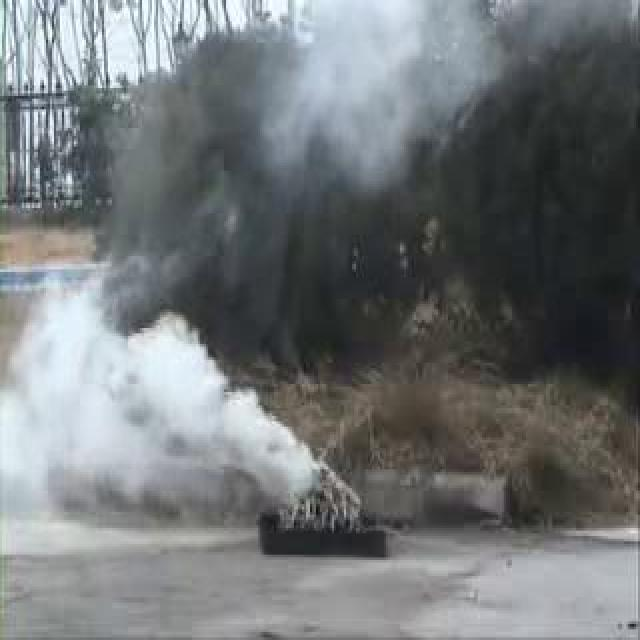smoke: (96, 0, 522, 277), (2, 277, 316, 515)
